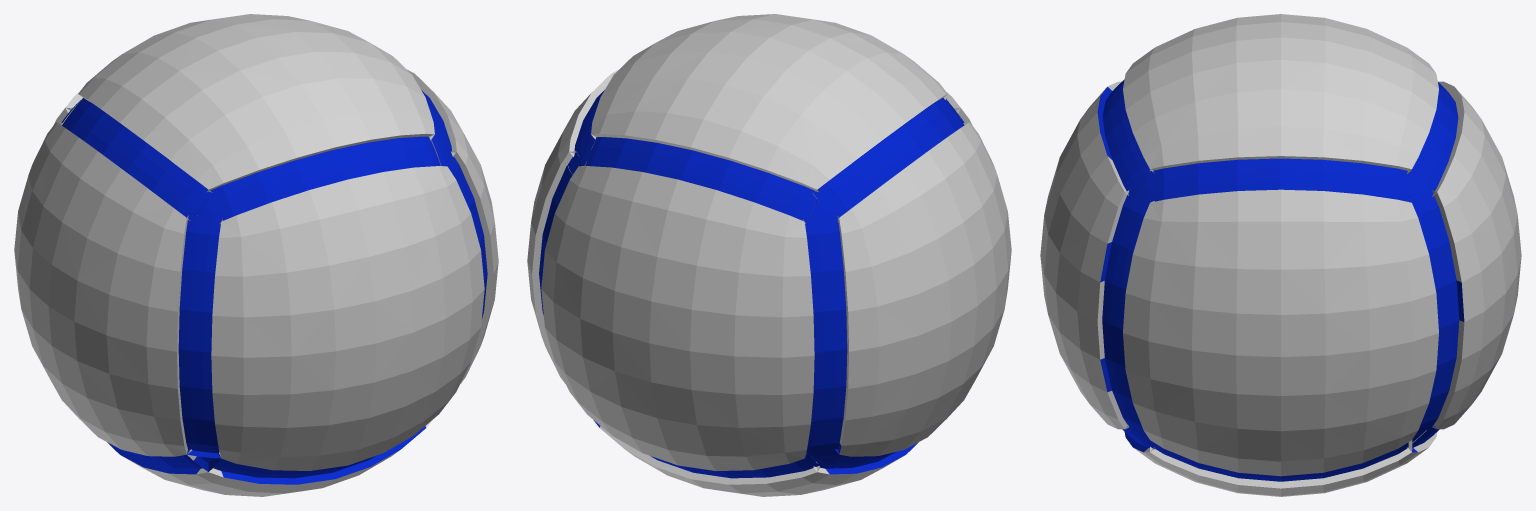
File: VolleyBall_Ball.obj
The picture shows the model from 3 angles, left to right: view 1: azimuth 30°, elevation 25°; view 2: azimuth 150°, elevation 25°; view 3: azimuth 270°, elevation 25°; orthographic projection.
Parts seen in each view (by area): view 1: Cube; view 2: Cube; view 3: Cube.
Part boxes in pixels (<box>): Cube: <box>14,14,498,496</box>; Cube: <box>527,14,1011,496</box>; Cube: <box>1040,14,1521,496</box>.
Bounding box in the file's own units: 3.68 × 3.68 × 3.68.
